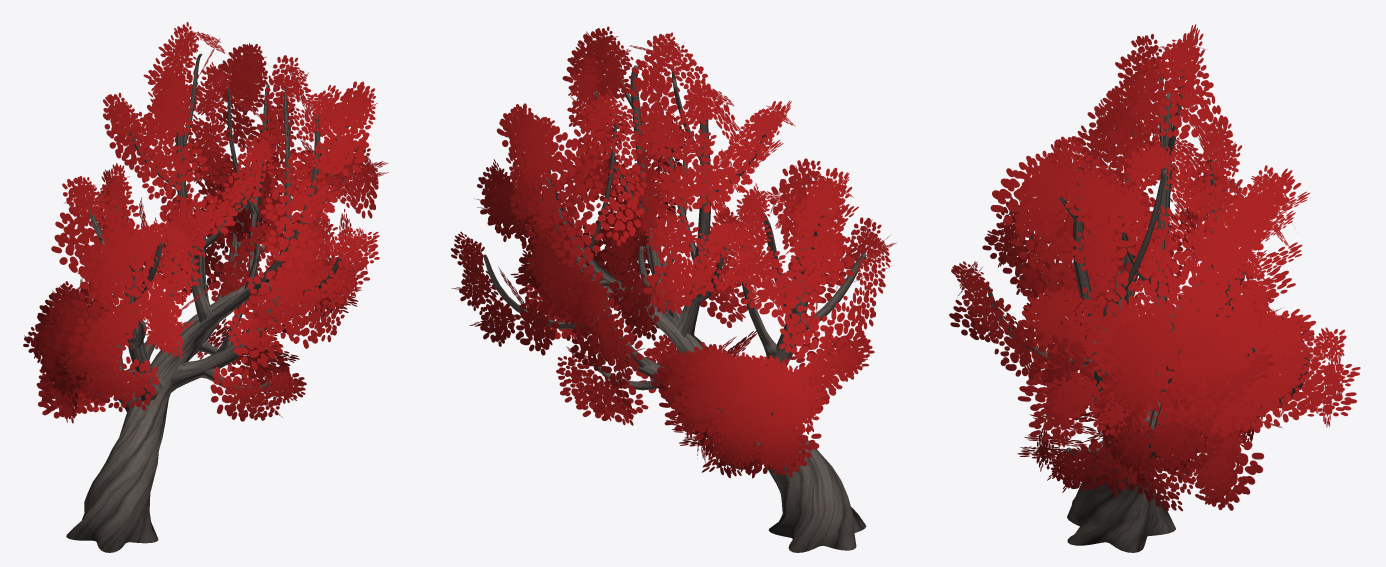
Rendered from forest_twisted_b.glb.
3 views of the same model, side by side, from view 1: azimuth 30°, elevation 25°; view 2: azimuth 150°, elevation 25°; view 3: azimuth 270°, elevation 25° (orthographic). The views are drawn at different scales.
Visible parts, largest first — view 1: TwistedTree_1; view 2: TwistedTree_1; view 3: TwistedTree_1.
Part boxes in pixels (<box>): TwistedTree_1: <box>23,22,388,552</box>; TwistedTree_1: <box>451,26,896,552</box>; TwistedTree_1: <box>949,24,1360,552</box>.
Size of the model in its own units: 13.52 by 16.73 by 11.55.
Materials: 2 (2 with a texture image).
